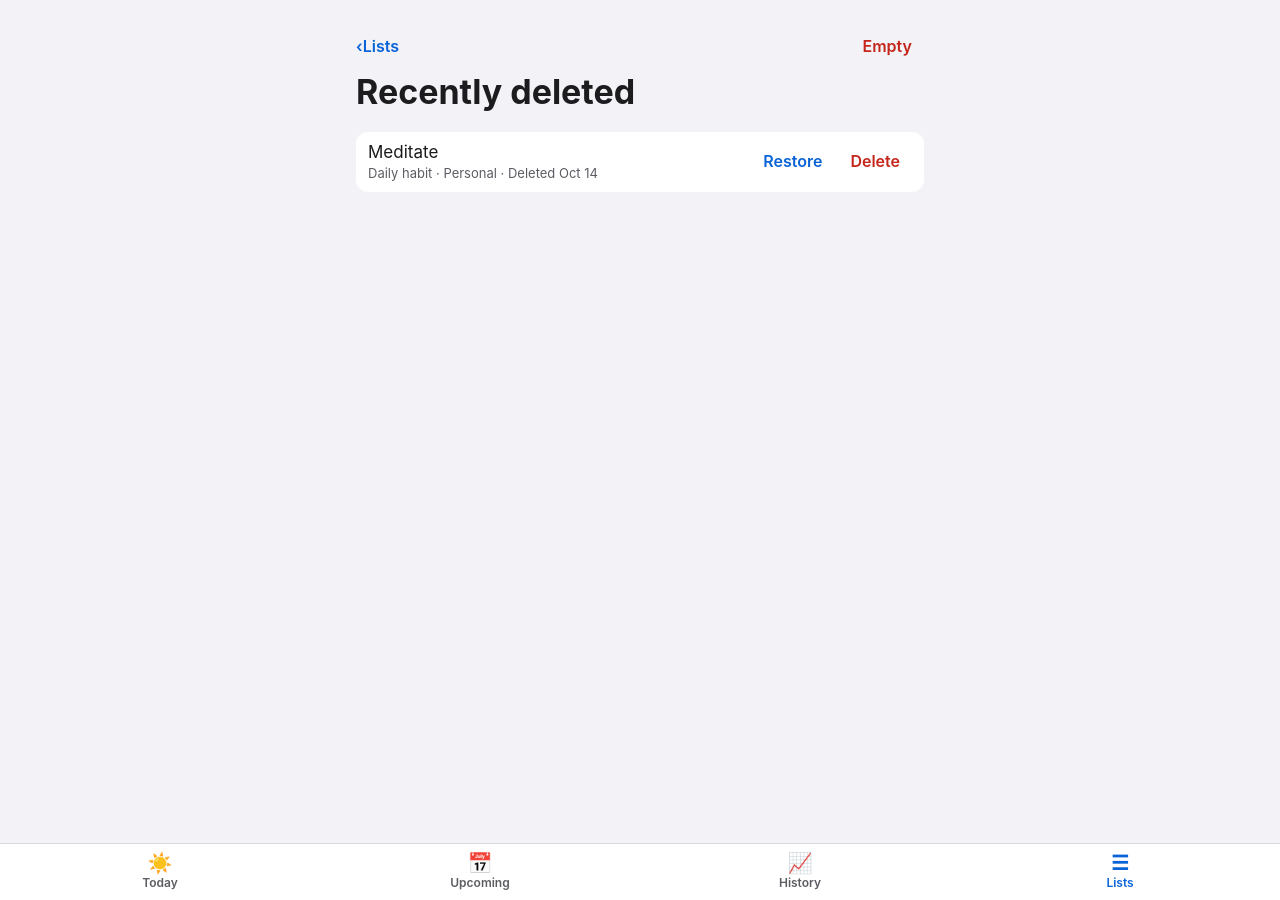
Test: Recently deleted › reports a restore that could not be saved
Click the button with aria-label "Restore Meditate".
click(793, 162)  # box top-left (751, 140), bottom-right (834, 184)
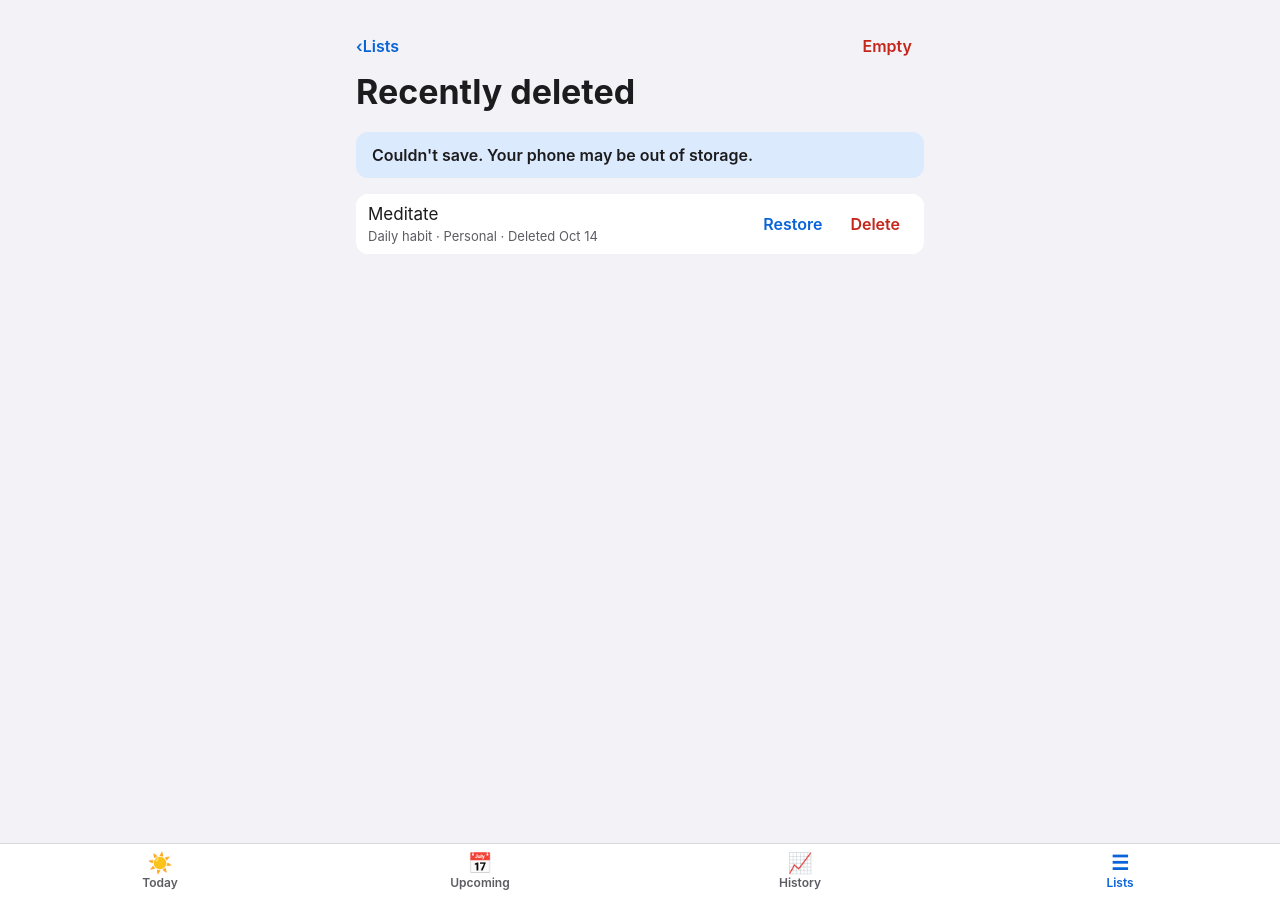
Expected: the button with aria-label "Restore Meditate" is shown, top-left (751, 202), bottom-right (834, 246)
Now the text "Couldn't save. Your phone may be out of storage." is shown, box top-left (356, 132), bottom-right (924, 178)
